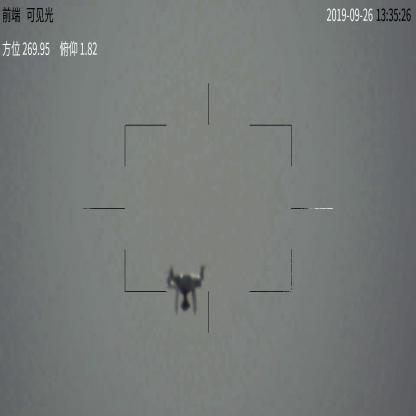uav: (167, 264, 207, 314)
